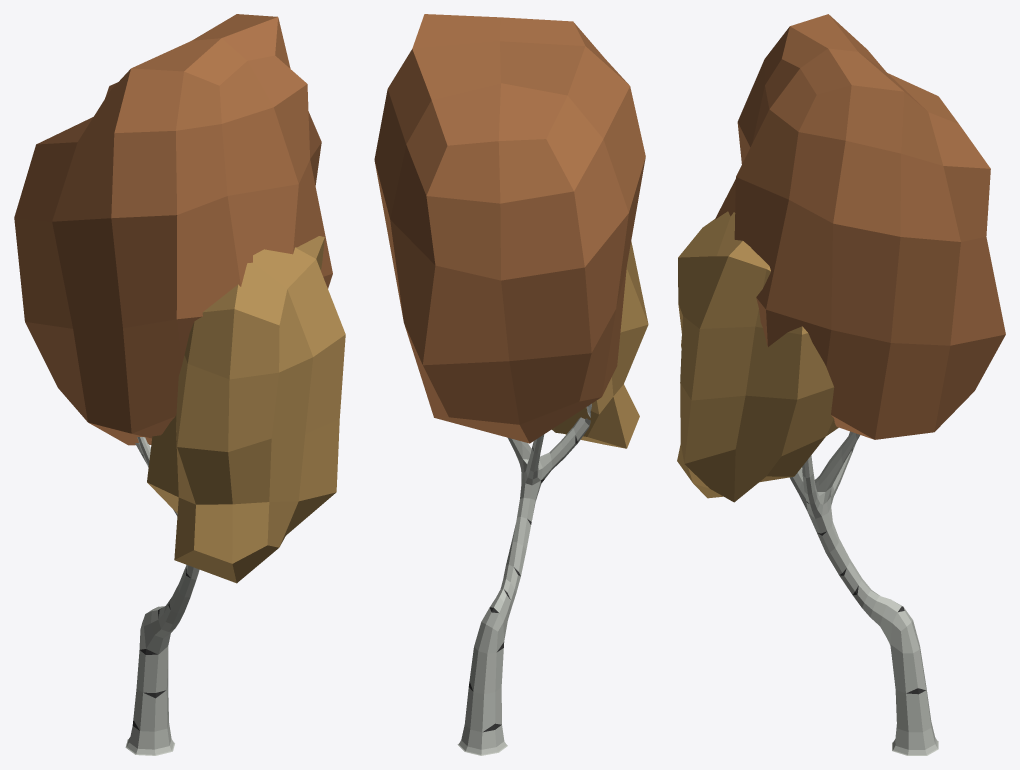
Rendered from BirchTree_Autumn_2.glb.
The picture shows the model from 3 angles, left to right: view 1: azimuth 30°, elevation 25°; view 2: azimuth 150°, elevation 25°; view 3: azimuth 270°, elevation 25°; orthographic projection. The views are drawn at different scales.
Parts seen in each view (by area): view 1: Orange, LightOrange, White; view 2: Orange, White, LightOrange; view 3: Orange, LightOrange, White.
Boxes of the visible parts, bbox=[...] form: Orange: bbox=[14, 14, 332, 445]; LightOrange: bbox=[147, 236, 345, 583]; White: bbox=[125, 437, 199, 755]; Orange: bbox=[374, 14, 645, 443]; White: bbox=[457, 403, 591, 755]; LightOrange: bbox=[552, 241, 648, 448]; Orange: bbox=[714, 14, 1005, 439]; LightOrange: bbox=[677, 211, 838, 502]; White: bbox=[789, 431, 938, 755].
Size of the model in its own units: 1.47 by 4.03 by 1.69.
